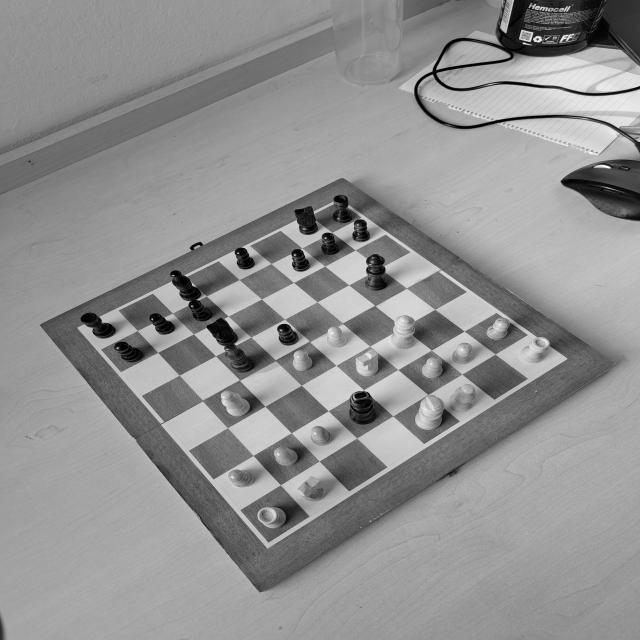chess-table-corners: (258, 534, 280, 550), (550, 352, 572, 365), (75, 324, 91, 334)
